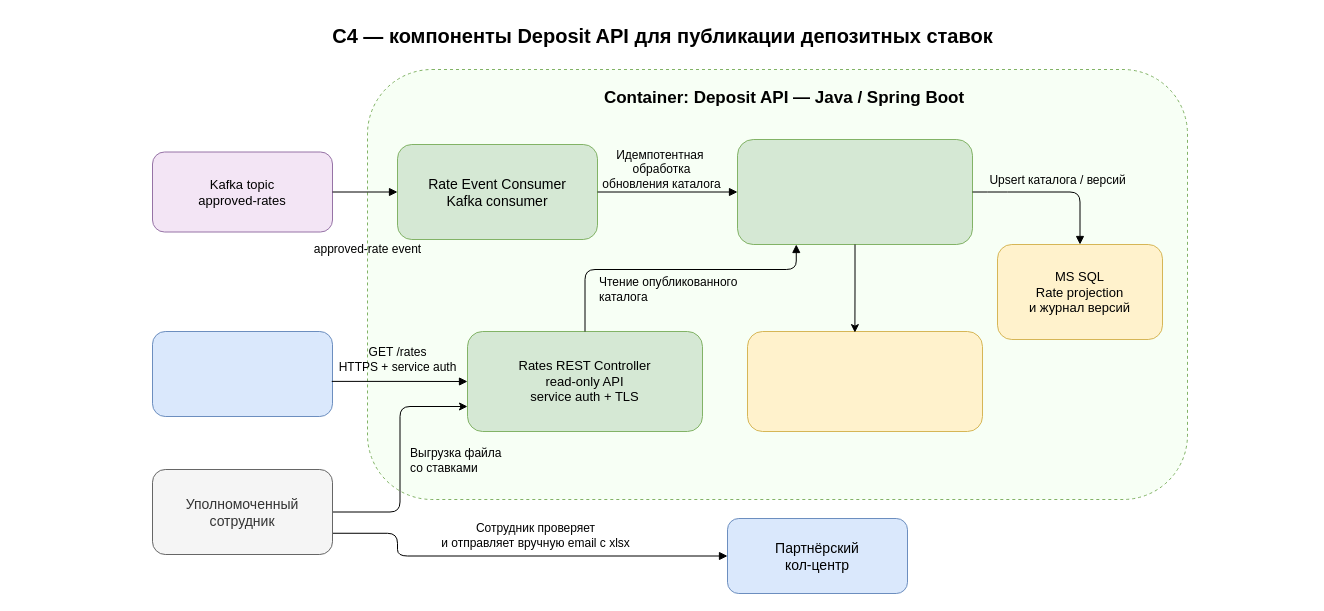
This 1324x611 diagram has some shape labels left out. The box of each missing label's shape, as (x1, y1, x2, y2) in pixels:
Rate Catalog Service проверка версии, срока действия и разрешённого набора: (736, 138, 972, 244)
Система банковского кол-центра: (152, 330, 332, 416)
Файловое хранилище S3 + audit log версия, checksum, время: (746, 330, 982, 432)
